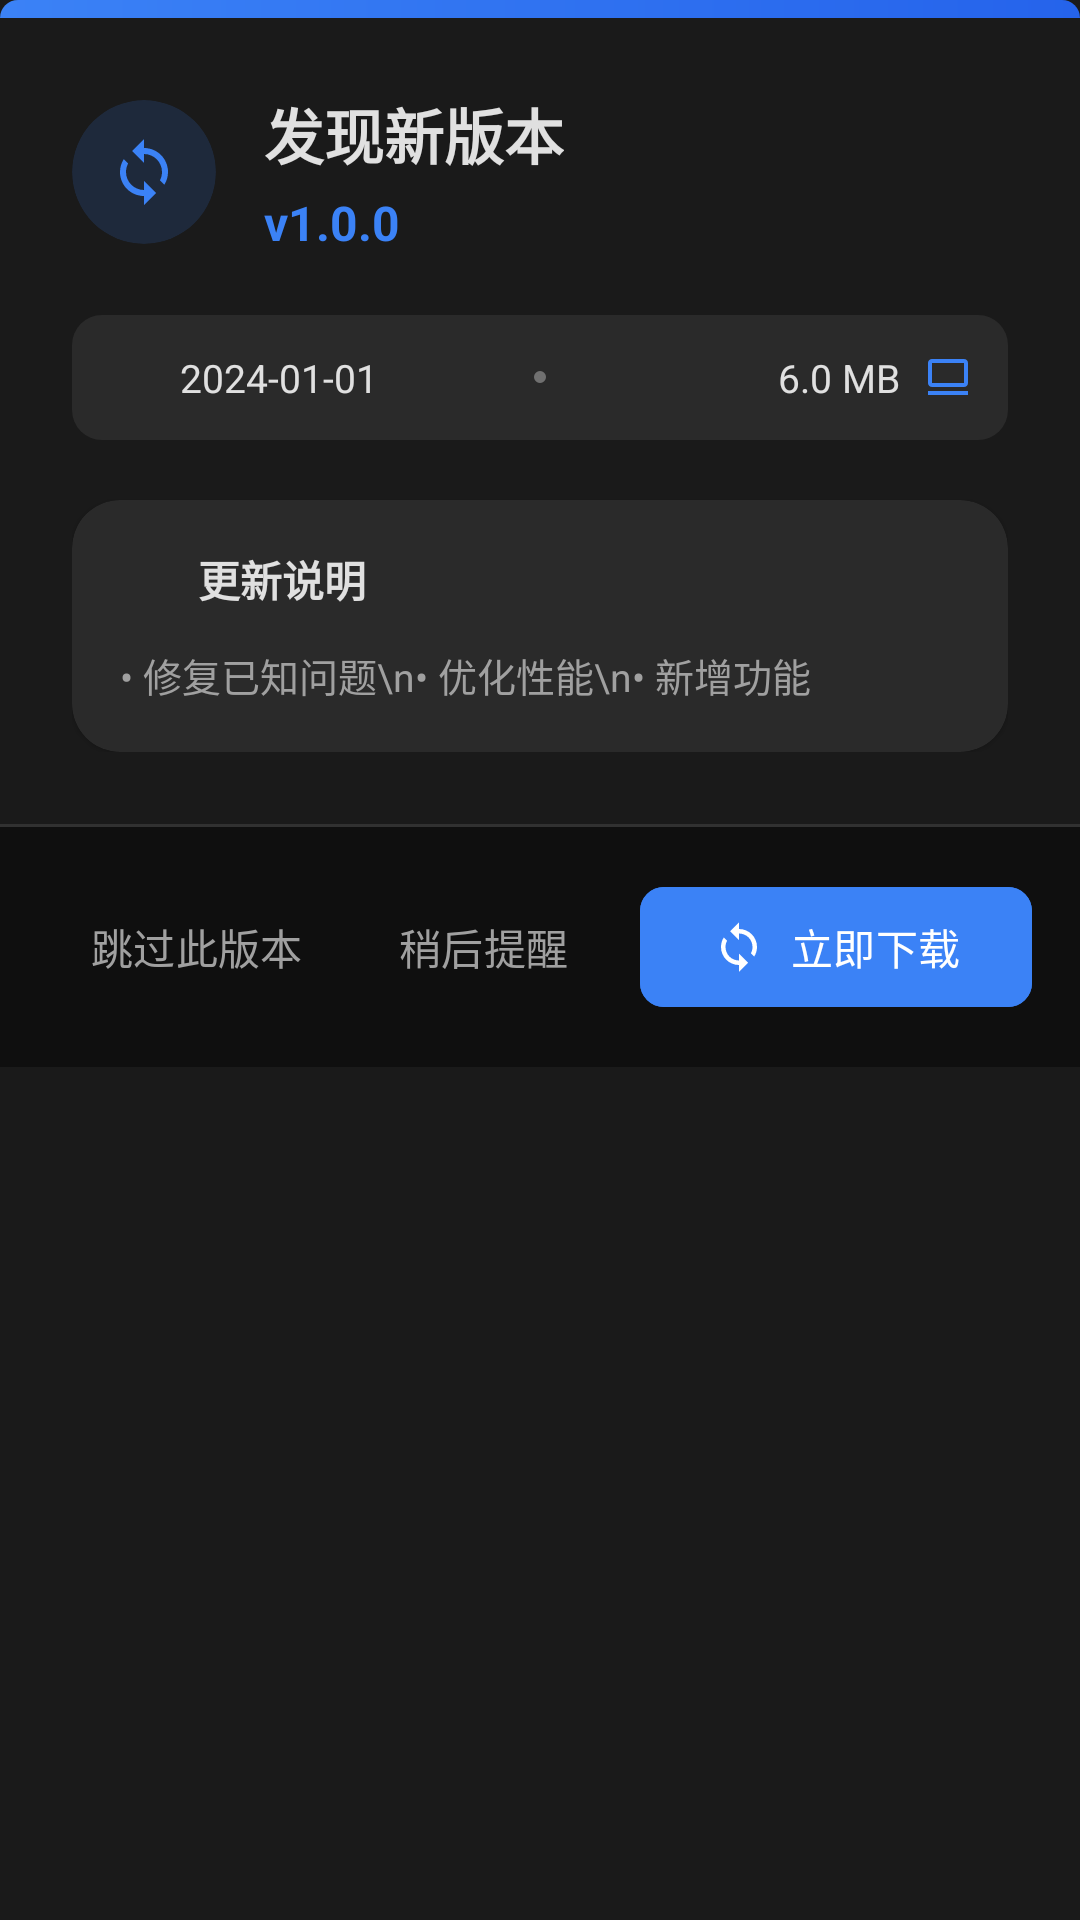

Named icons in this screenshot (1080 × 1920) and their centers, [x,y]:
update: [144,172]
